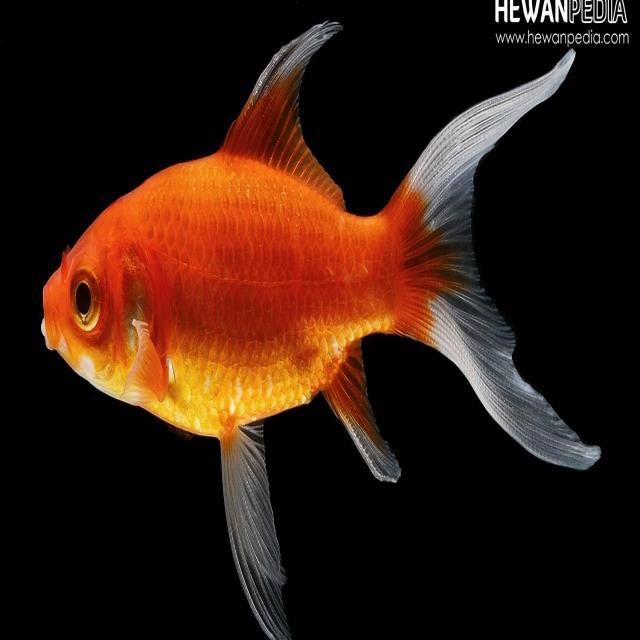GoldFish: (39, 19, 601, 638)
